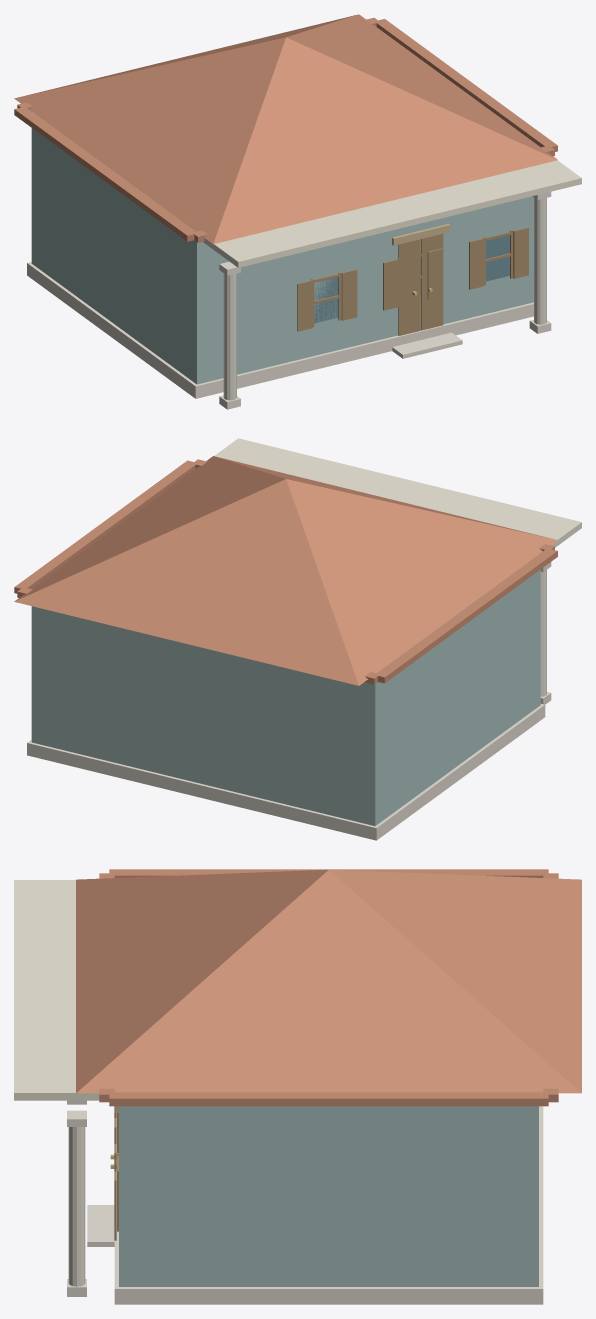
The model's file is mdl_buildings_house_colonial_01_002.glb.
3 renders of one model, top to bottom at view 1: azimuth 30°, elevation 25°; view 2: azimuth 150°, elevation 25°; view 3: azimuth 270°, elevation 25°, orthographic. The views are drawn at different scales.
Visible parts, largest first — view 1: m_teja, m_fachada, m_caliza, m_crema, m_madera, m_vidrio_petroleo, m_madera_clara; view 2: m_teja, m_fachada, m_caliza, m_crema; view 3: m_teja, m_fachada, m_crema, m_caliza, m_madera.
Boxes of the visible parts, x1,y1,x2,y2 form: m_teja: [14, 14, 557, 244]; m_fachada: [31, 113, 533, 384]; m_caliza: [27, 192, 551, 409]; m_crema: [203, 160, 581, 267]; m_madera: [297, 227, 528, 335]; m_vidrio_petroleo: [314, 235, 509, 323]; m_madera_clara: [392, 224, 450, 245]; m_teja: [14, 456, 557, 685]; m_fachada: [31, 556, 540, 825]; m_caliza: [27, 562, 551, 840]; m_crema: [214, 438, 581, 552]; m_teja: [76, 869, 581, 1106]; m_fachada: [119, 1106, 538, 1286]; m_crema: [14, 880, 99, 1100]; m_caliza: [67, 1100, 543, 1304]; m_madera: [114, 1106, 118, 1240].
Size of the model in its own units: 7.76 by 5.15 by 8.11.
